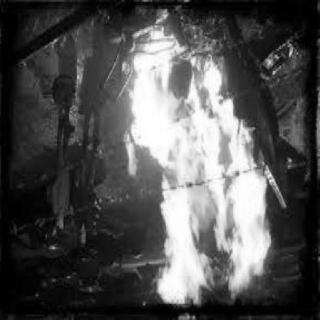Fire: (113, 41, 285, 308)
